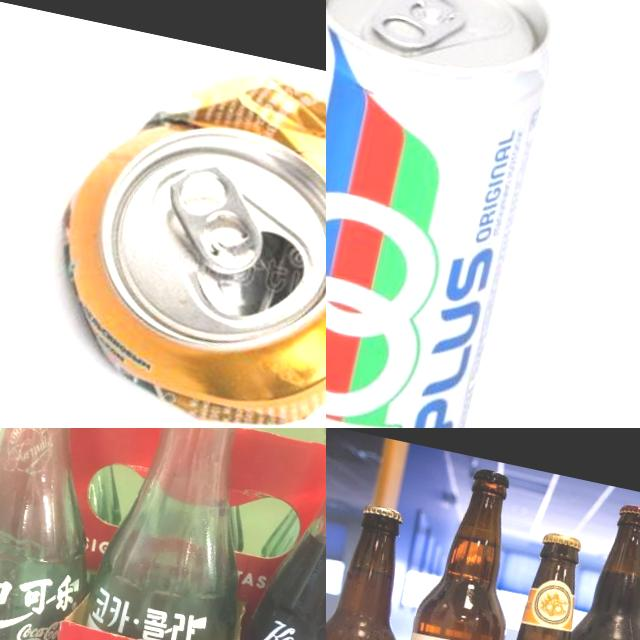aba de lata: (152, 155, 278, 281), (367, 0, 472, 64)
garrafa de vidro: (75, 428, 293, 640), (373, 460, 539, 640), (0, 428, 139, 640), (223, 428, 326, 640), (456, 523, 609, 640), (530, 496, 640, 640), (326, 497, 431, 640)
lata: (27, 37, 326, 428), (326, 0, 572, 428)
